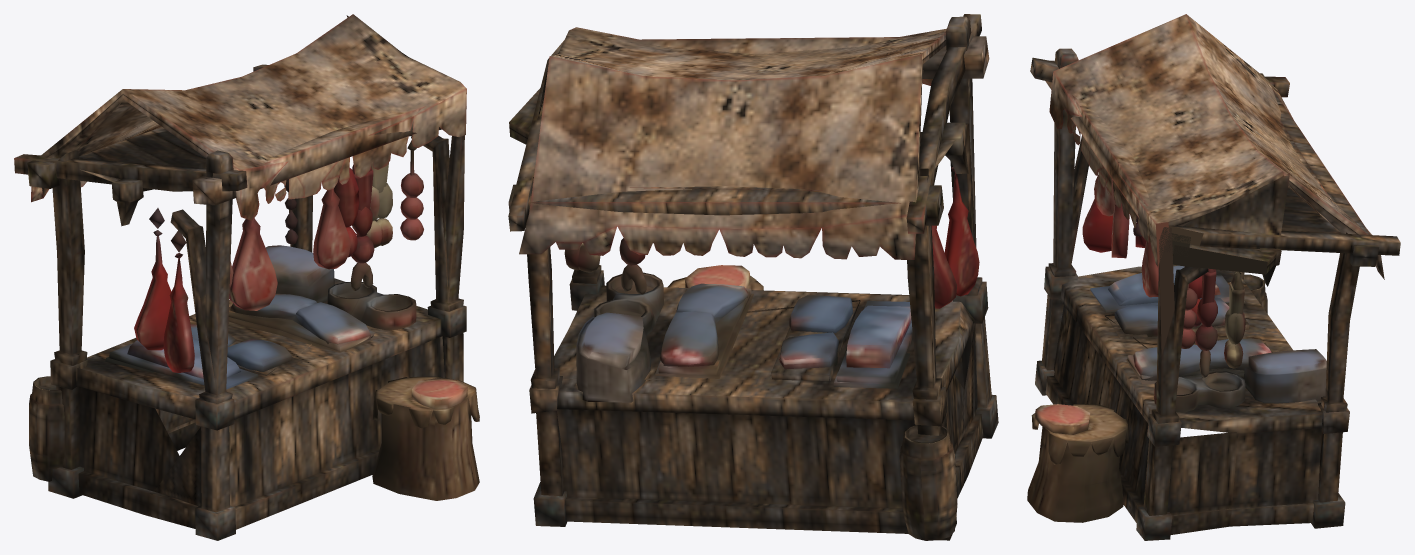
Rendered from meat.glb.
3 views of the same model, side by side, from view 1: azimuth 30°, elevation 25°; view 2: azimuth 150°, elevation 25°; view 3: azimuth 270°, elevation 25° (orthographic). The views are drawn at different scales.
Visible parts, largest first — view 1: market_stall_meat; view 2: market_stall_meat; view 3: market_stall_meat.
Part boxes in pixels (bbox=[...]): market_stall_meat: bbox=[14, 14, 479, 540]; market_stall_meat: bbox=[508, 14, 998, 540]; market_stall_meat: bbox=[1027, 14, 1400, 540].
Size of the model in its own units: 3 by 3.16 by 2.72.
Materials: 1 (1 with a texture image).
